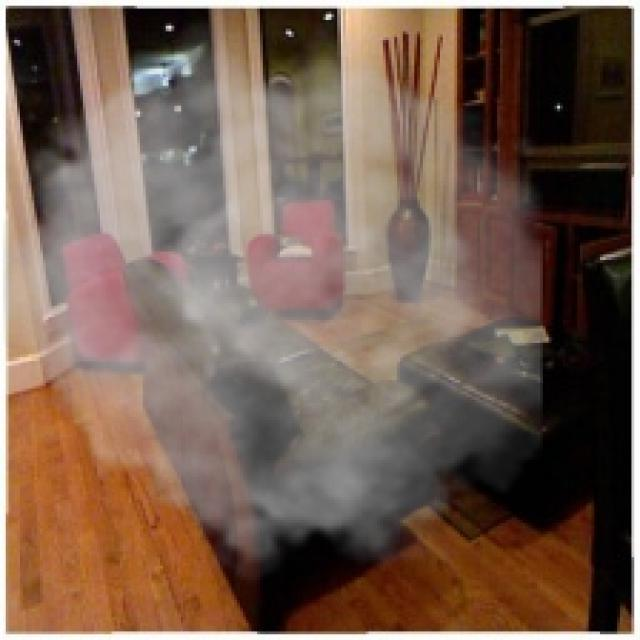Smoke: (3, 17, 543, 586)
